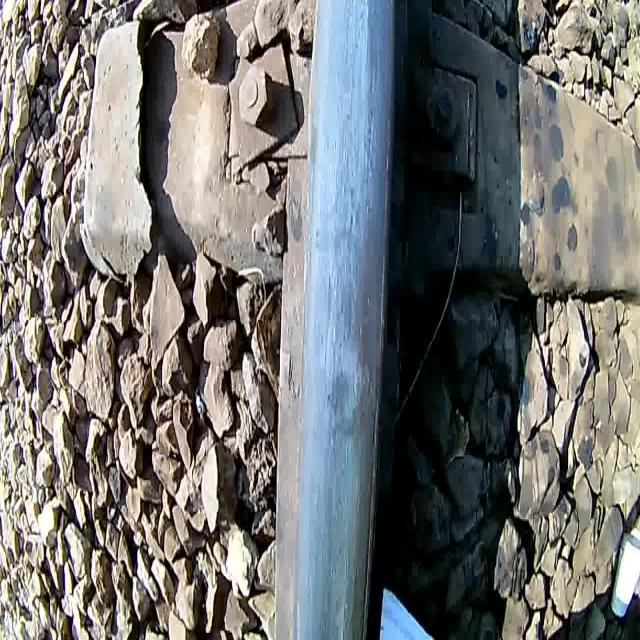Squats: (289, 357, 387, 470)
